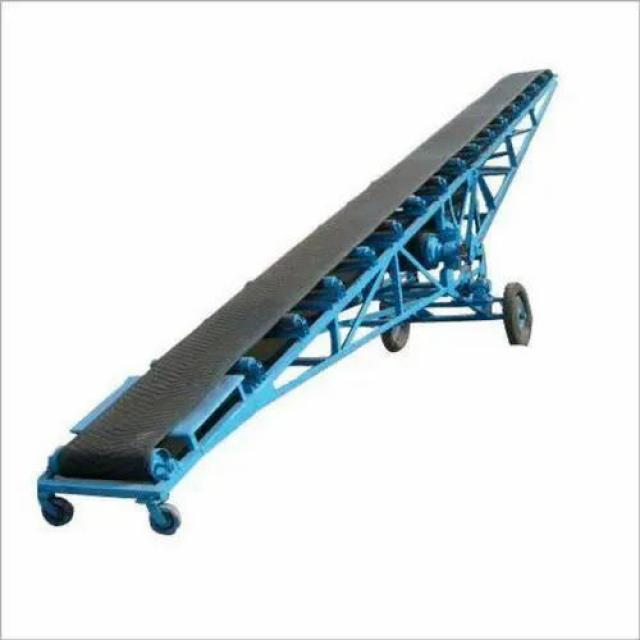conveyor: (28, 59, 570, 532)
